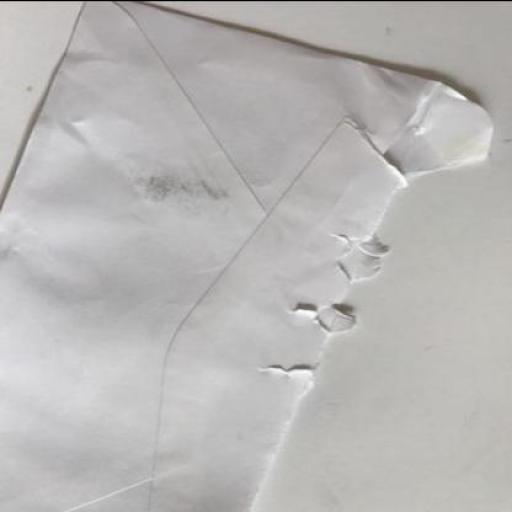paper: (0, 1, 491, 511)
